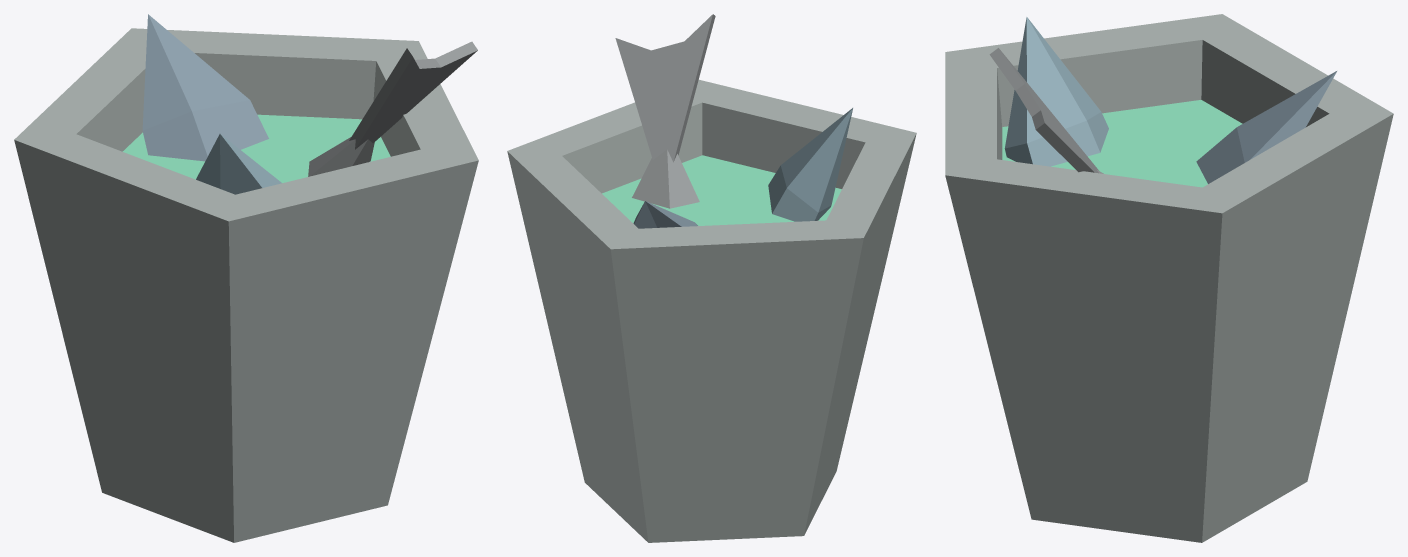
File: Bucket_2.fbx
The picture shows the model from 3 angles, left to right: view 1: azimuth 30°, elevation 25°; view 2: azimuth 150°, elevation 25°; view 3: azimuth 270°, elevation 25°; orthographic projection. The views are drawn at different scales.
Visible parts, largest first — view 1: Bucket_2; view 2: Bucket_2; view 3: Bucket_2.
Boxes of the visible parts, x1,y1,x2,y2 form: Bucket_2: (14, 14, 478, 542); Bucket_2: (507, 14, 916, 542); Bucket_2: (945, 14, 1393, 542).
Size of the model in its own units: 50.68 by 56.1 by 48.2.
1 material, 1 textured.
